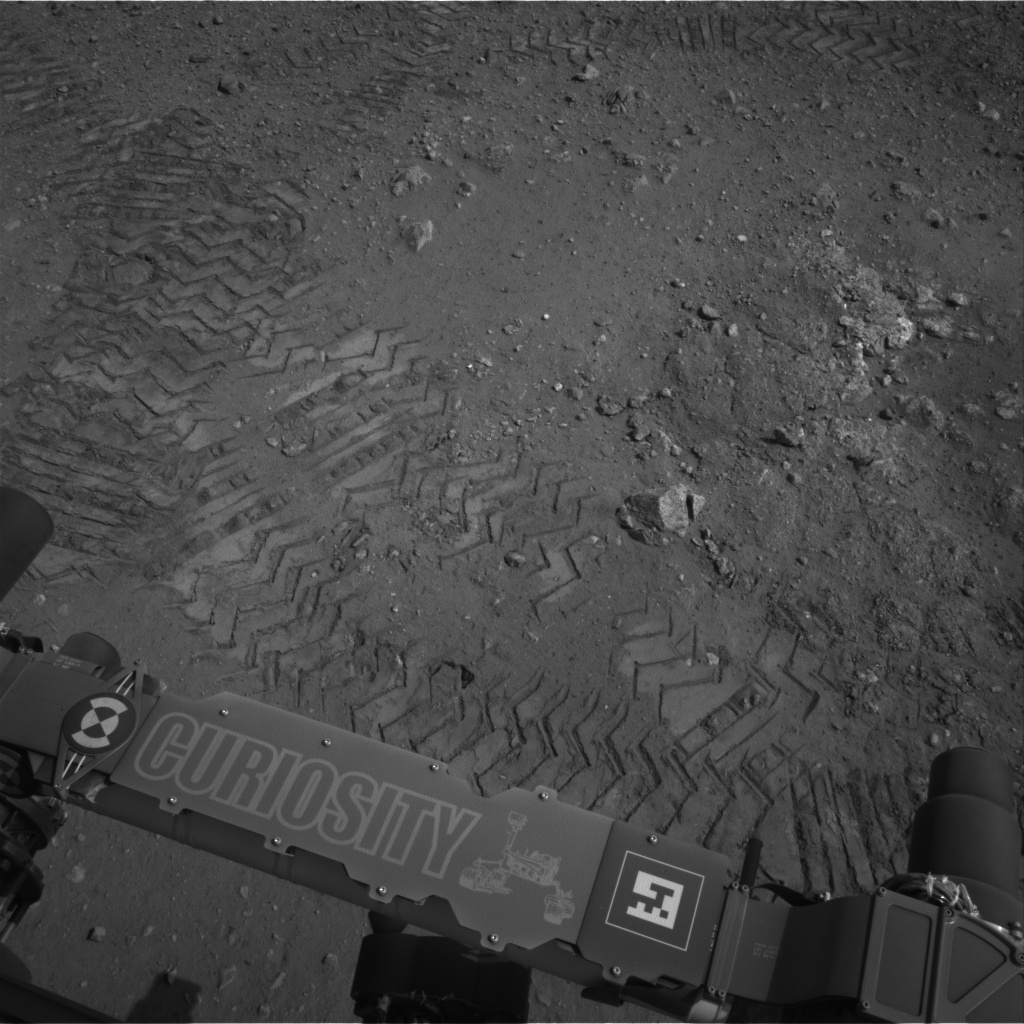soil: (3, 5, 1020, 831), (46, 870, 325, 1009)
